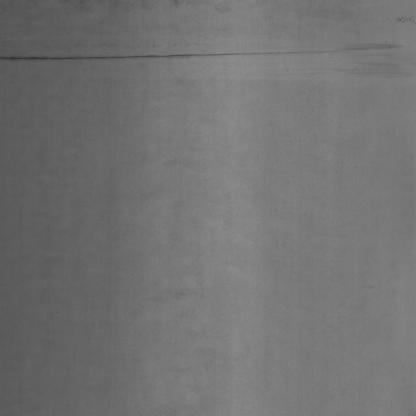crease: (0, 29, 379, 76)
